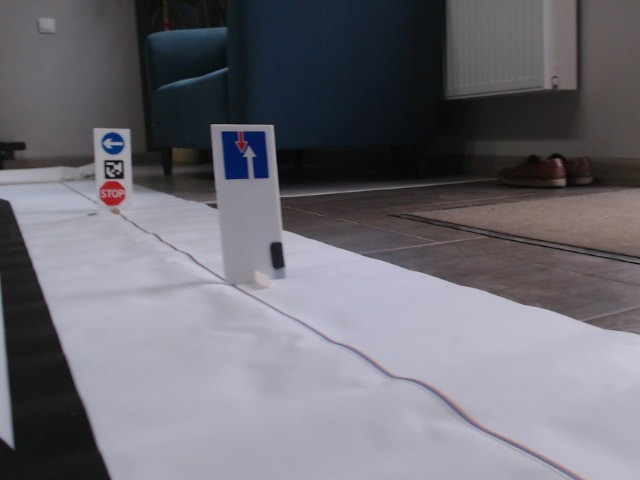Stop: (98, 179, 125, 207)
priority_movement: (219, 130, 269, 181)
